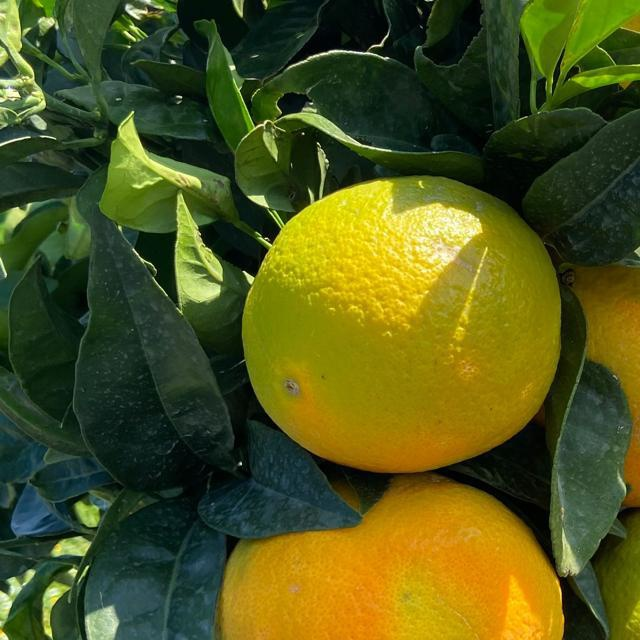orange: (235, 148, 565, 484), (195, 452, 577, 640), (505, 202, 640, 512), (522, 0, 640, 214), (555, 495, 640, 640)
